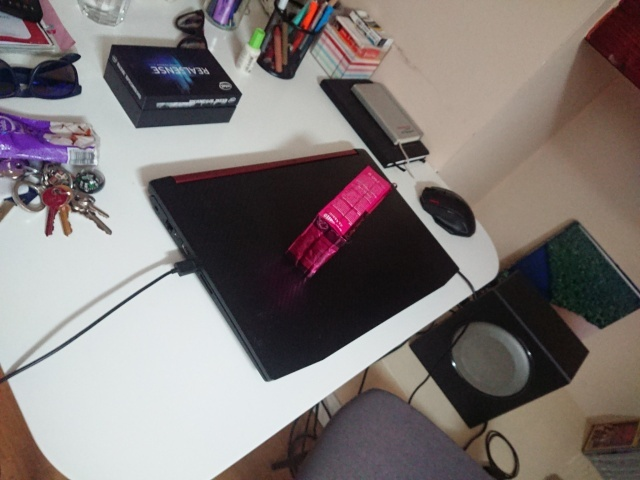Barcaffe Classic Original 225g: (281, 162, 398, 282)
